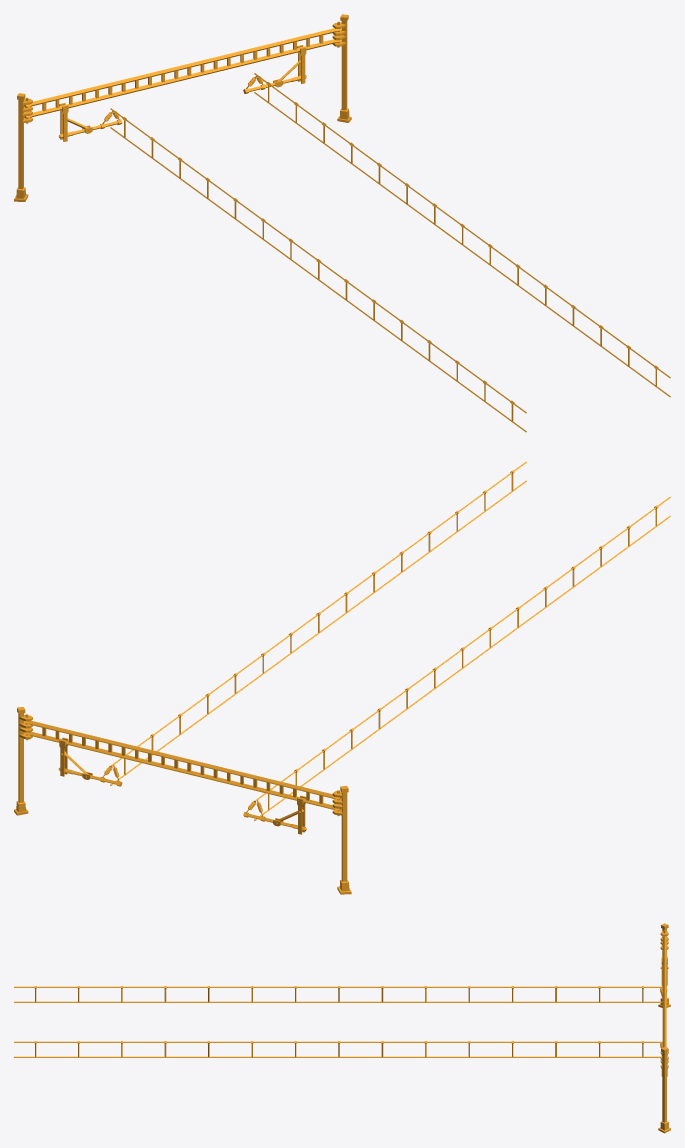
Rendered from SM_Train_Wiring_Double_Roof.fbx.
3 renders of one model, top to bottom at view 1: azimuth 30°, elevation 25°; view 2: azimuth 150°, elevation 25°; view 3: azimuth 270°, elevation 25°, orthographic. The views are drawn at different scales.
Parts seen in each view (by area): view 1: SM_Train_Wiring_Double_Roof; view 2: SM_Train_Wiring_Double_Roof; view 3: SM_Train_Wiring_Double_Roof.
Part boxes in pixels (x1=…): SM_Train_Wiring_Double_Roof: x1=14, y1=14, x2=670, y2=432; SM_Train_Wiring_Double_Roof: x1=14, y1=461, x2=670, y2=894; SM_Train_Wiring_Double_Roof: x1=14, y1=923, x2=670, y2=1133.
Bounding box in the file's own units: 14.08 × 4.18 × 30.29.
